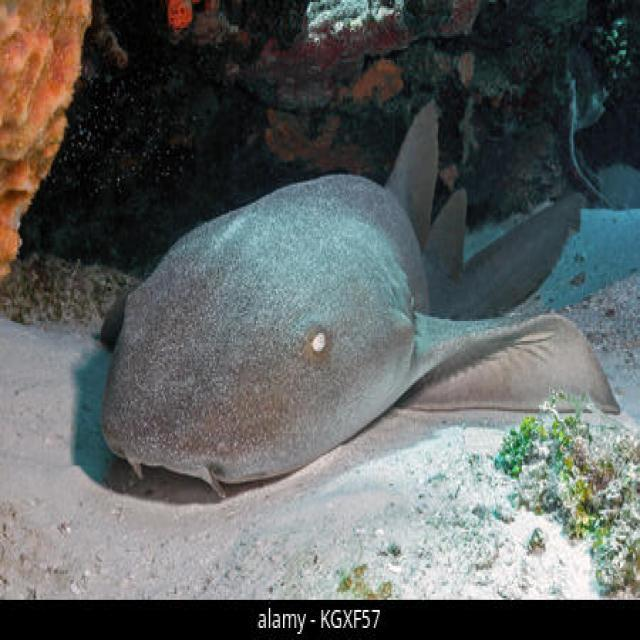Shark: (57, 50, 636, 510)
